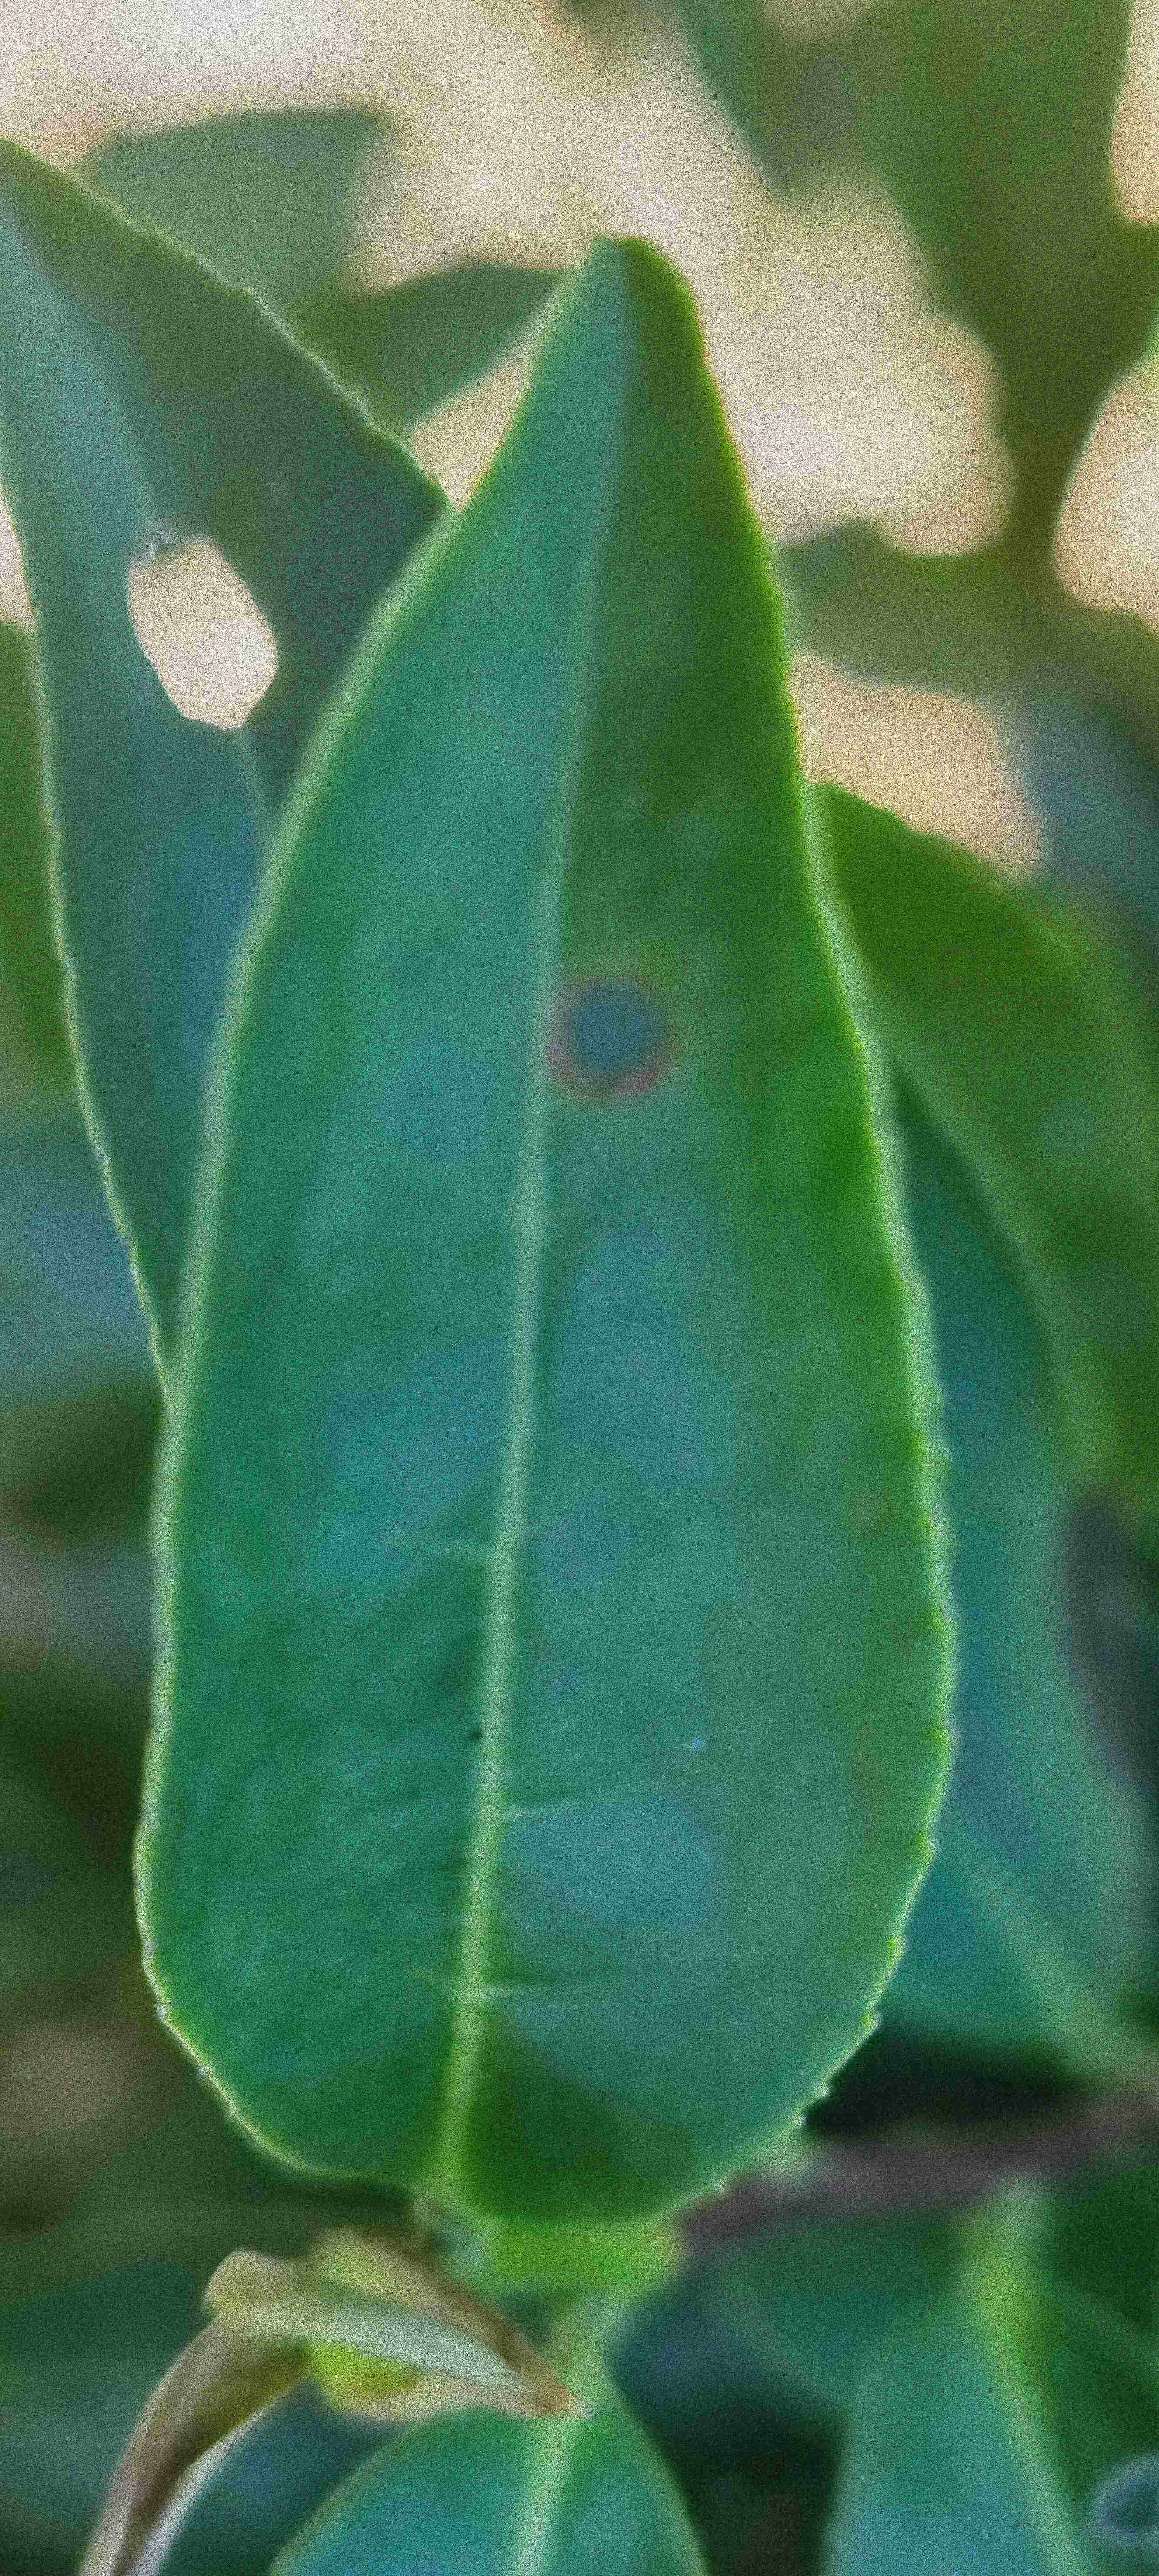chihuo_low: (128, 233, 965, 2224), (5, 125, 448, 1419)
